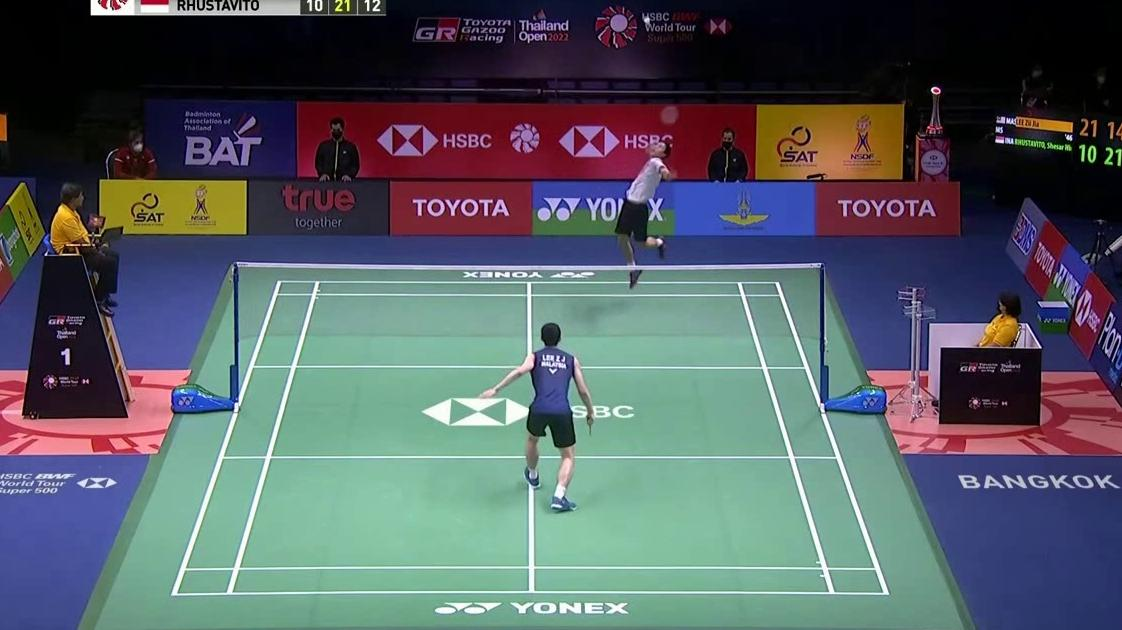racket: (646, 104, 678, 149), (585, 411, 598, 444)
shuttle: (643, 16, 652, 26)
